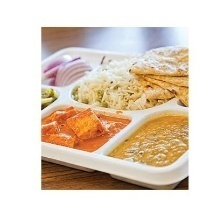sabzi: (42, 104, 132, 155)
